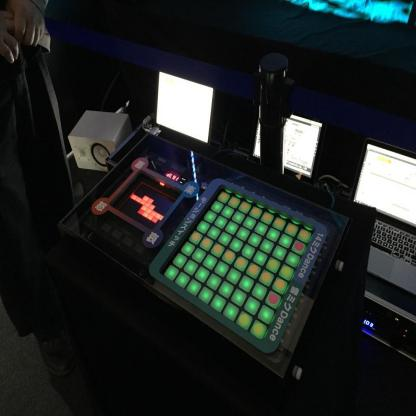board: (353, 139, 416, 323)
